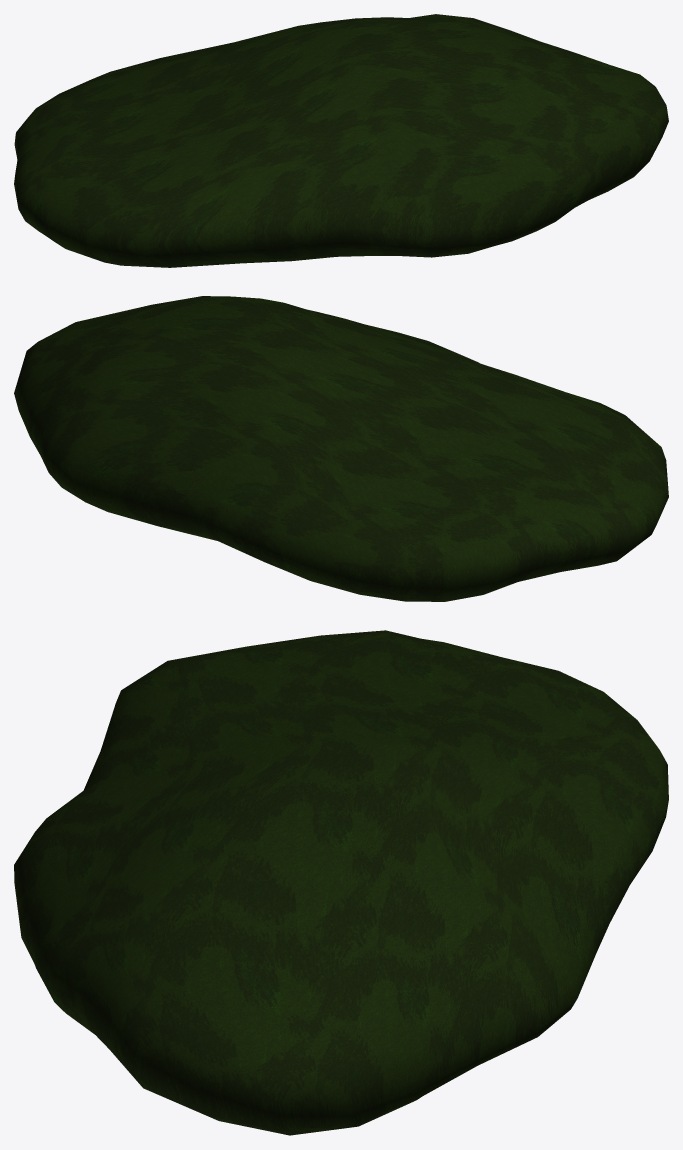
Rendered from hill.fbx.
3 renders of one model, top to bottom at view 1: azimuth 30°, elevation 25°; view 2: azimuth 150°, elevation 25°; view 3: azimuth 270°, elevation 25°, orthographic. The views are drawn at different scales.
Parts seen in each view (by area): view 1: island.001; view 2: island.001; view 3: island.001.
Boxes of the visible parts, box(x1,y1,x2,y2) form: island.001: box(14, 14, 668, 267); island.001: box(14, 296, 668, 601); island.001: box(14, 630, 668, 1135).
Size of the model in its own units: 570 by 150 by 371.
1 material, 1 textured.
